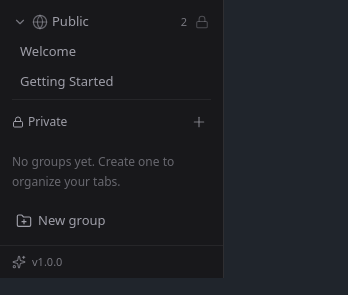
Test case: Sidebar › shows read-only notice when Public group is right-clicked
Right-click the text "Public" at (70, 21), box [52,12,89,30]
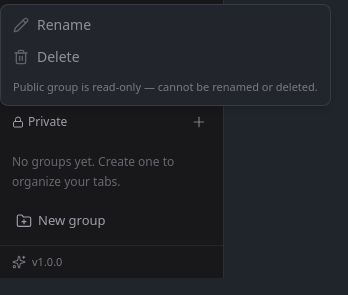
Now the text "Public group is read-only — cannot be renamed or deleted." is shown, box [13,79,318,94]
